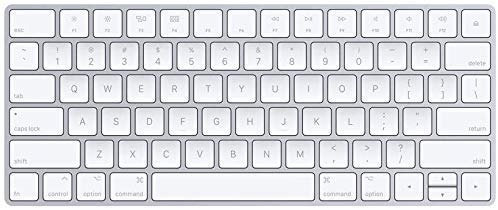keyboard: (9, 9, 494, 205)
